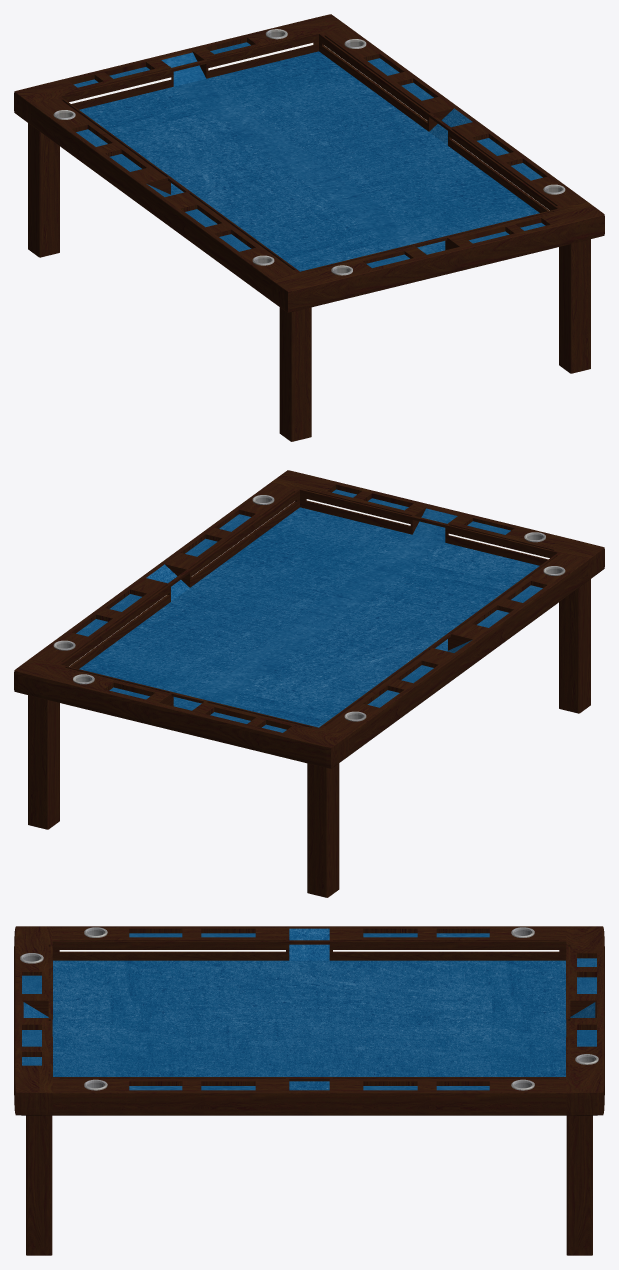
Rendered from MESA_MAMALONA_LED.glb.
3 renders of one model, top to bottom at view 1: azimuth 30°, elevation 25°; view 2: azimuth 150°, elevation 25°; view 3: azimuth 270°, elevation 25°, orthographic. The views are drawn at different scales.
Parts seen in each view (by area): view 1: Cube.007; view 2: Cube.007; view 3: Cube.007, Cube.008, Cube.013.
Boxes of the visible parts, <box> form: Cube.007: <box>14,14,604,441</box>; Cube.007: <box>14,470,604,897</box>; Cube.007: <box>14,926,604,1255</box>; Cube.008: <box>59,950,285,951</box>; Cube.013: <box>333,950,559,951</box>.
Size of the model in its own units: 1 by 0.4747 by 1.5.
Materials: 4 (3 with a texture image).
